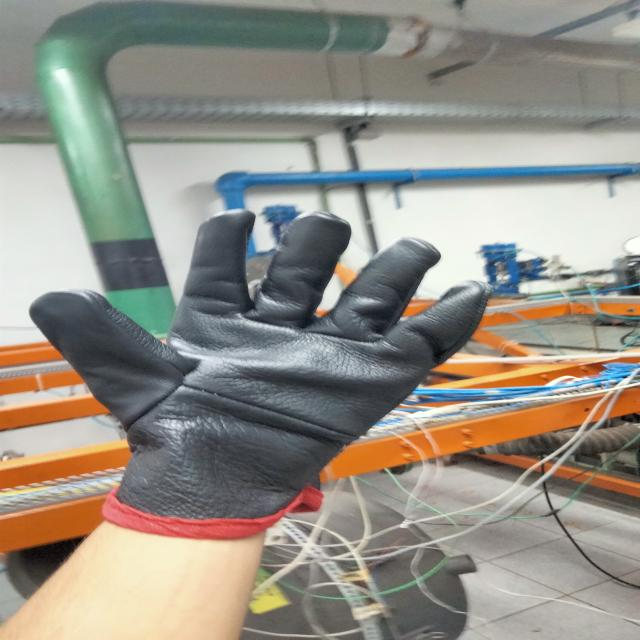Gloves: (35, 208, 488, 534)
